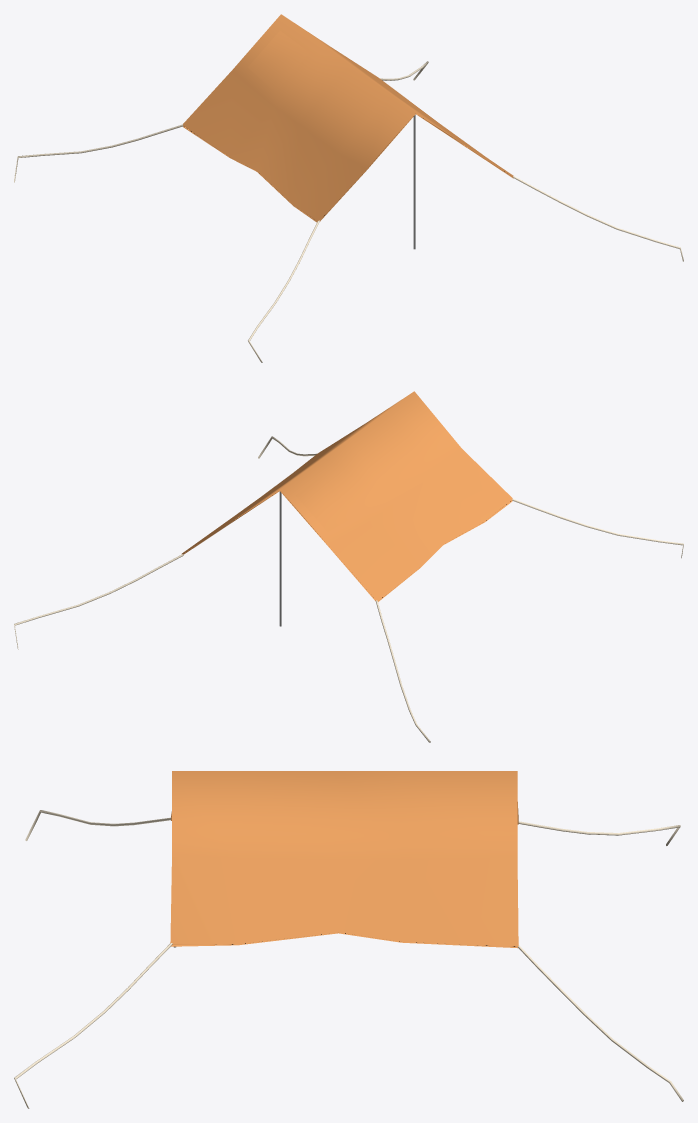
File: tarp.fbx
3 views of the same model, one above another, from view 1: azimuth 30°, elevation 25°; view 2: azimuth 150°, elevation 25°; view 3: azimuth 270°, elevation 25° (orthographic). The views are drawn at different scales.
Parts seen in each view (by area): view 1: tarp; view 2: tarp; view 3: tarp.
Part boxes in pixels (x1,y1,x2,y2): tarp: (14, 14, 683, 362); tarp: (14, 391, 683, 742); tarp: (14, 771, 683, 1108).
Size of the model in its own units: 0.0964 by 0.0345 by 0.1011.
2 materials, 2 textured.
